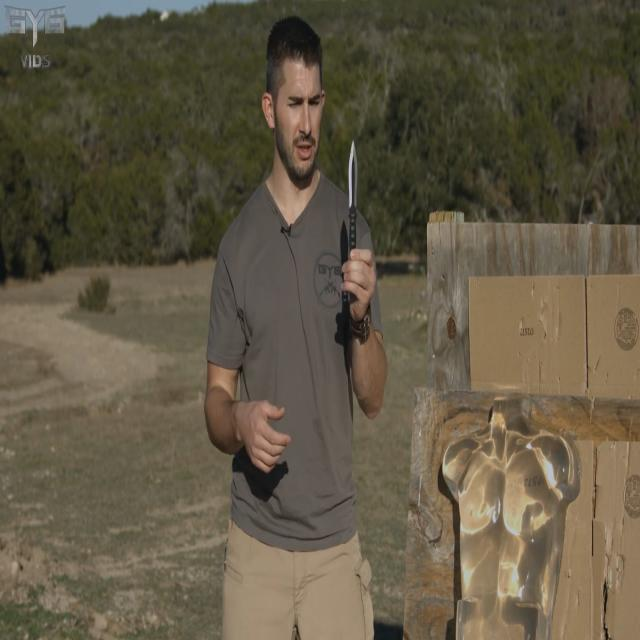knife: (345, 137, 365, 251)
